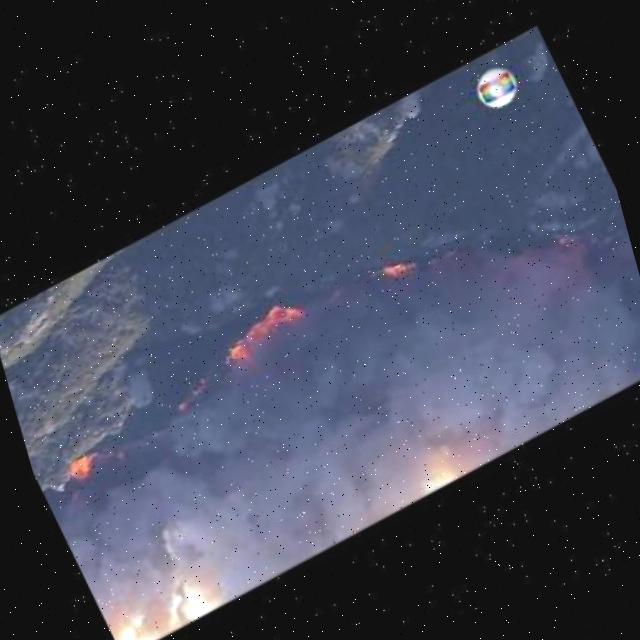fire: (206, 286, 318, 363), (168, 370, 212, 405), (61, 443, 96, 478), (378, 250, 418, 278)
